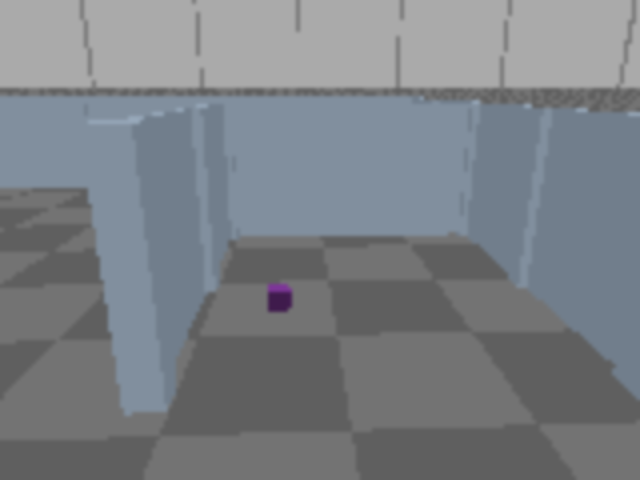puck: (268, 285, 289, 311)
